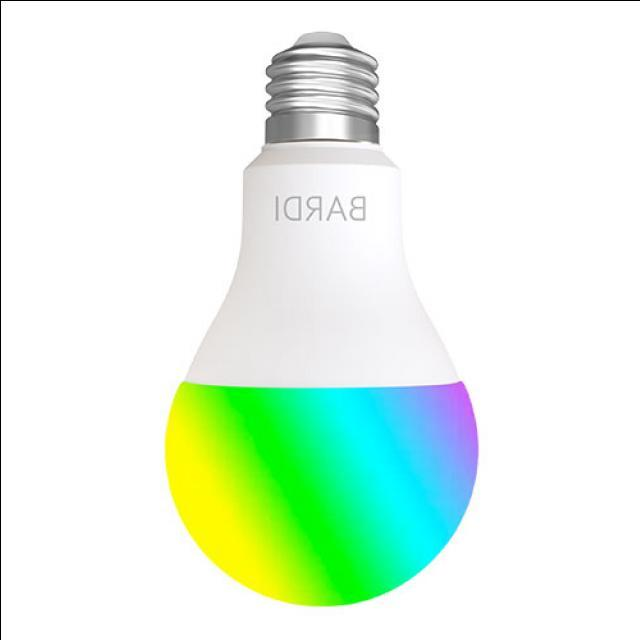light_bulb: (141, 19, 507, 614)
